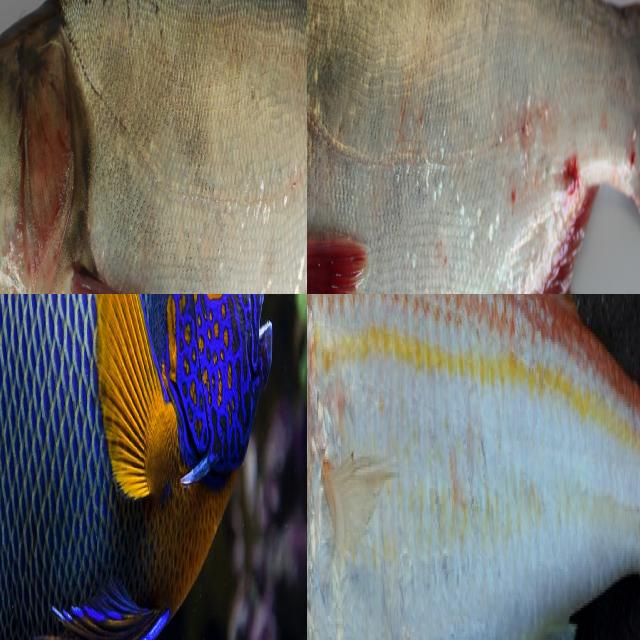fish: (307, 294, 640, 640), (307, 0, 640, 294), (0, 0, 307, 294), (0, 298, 223, 477)
